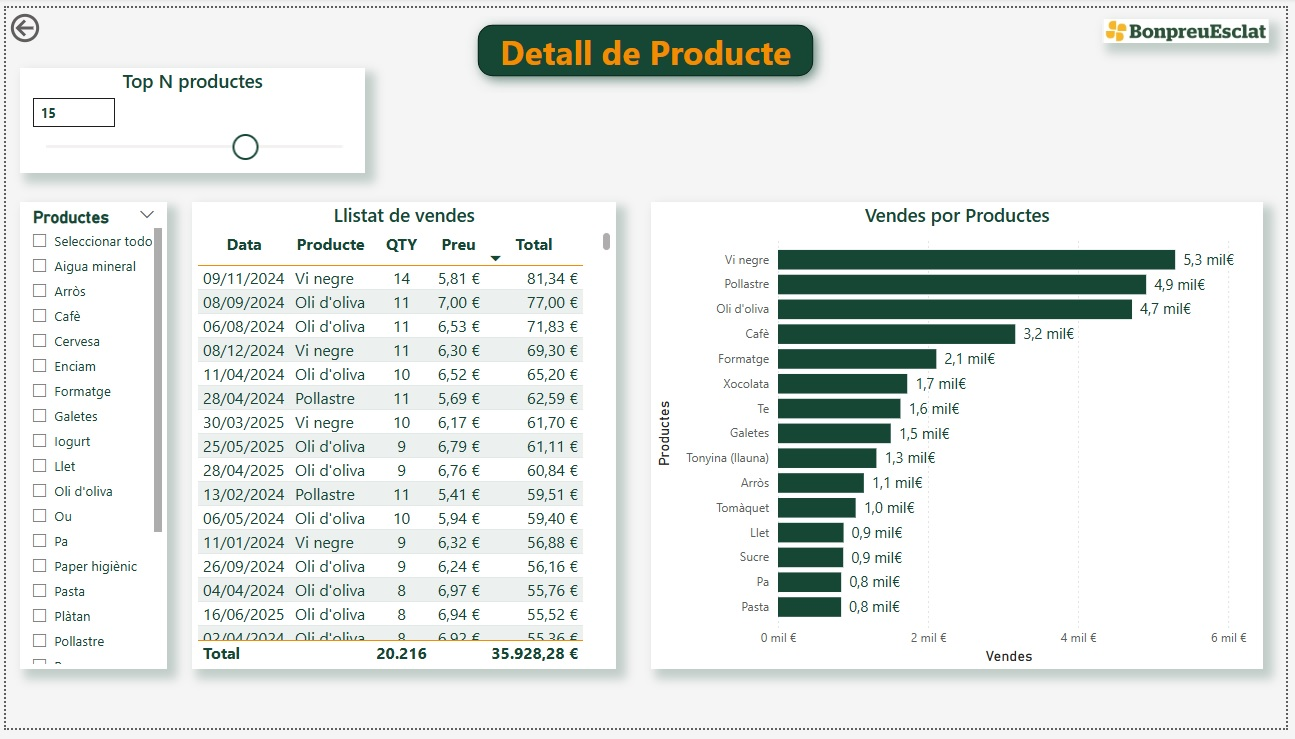

This screenshot's page, from the dashboard's own definition file:
{"tool":"powerbi","page":{"name":"Detall de Producte","canvas":[1280,720],"ordinal":1},"visuals":[{"type":"tableEx","fields":{"Values":["Calendar.Data","sales_staging.product","Sum(sales_staging.quantity)","sales_staging.price","Sum(sales_staging.total)"]},"box":[9,183,479,537],"z":0},{"type":"slicer","fields":{"Values":["TopN.TopN"]},"box":[9,73,440,101],"z":1},{"type":"clusteredBarChart","fields":{"Category":["sales_staging.product"],"Y":["Sum(sales_staging.total)"]},"box":[500,28.4,779.7,331.1],"z":2},{"type":"lineChart","fields":{"Category":["Calendar.Data"],"Y":["Sum(sales_staging.total)"]},"box":[500,382.4,779.7,321.6],"z":3},{"type":"image","box":[22,7,160,42],"z":4}]}

Visuals, with their boxes in screenshot pixels (x1, y1, x2, y2), scaled from the page's 1280x720 canvas onto the 1295x739 screenshot:
tableEx - Calendar.Data x sales_staging.product: 9:188:494:738
slicer - TopN.TopN: 9:75:454:179
clusteredBarChart - sales_staging.product x Sum(sales_staging.total): 506:29:1294:369
lineChart - Calendar.Data x Sum(sales_staging.total): 506:392:1294:723
image: 22:7:184:50
